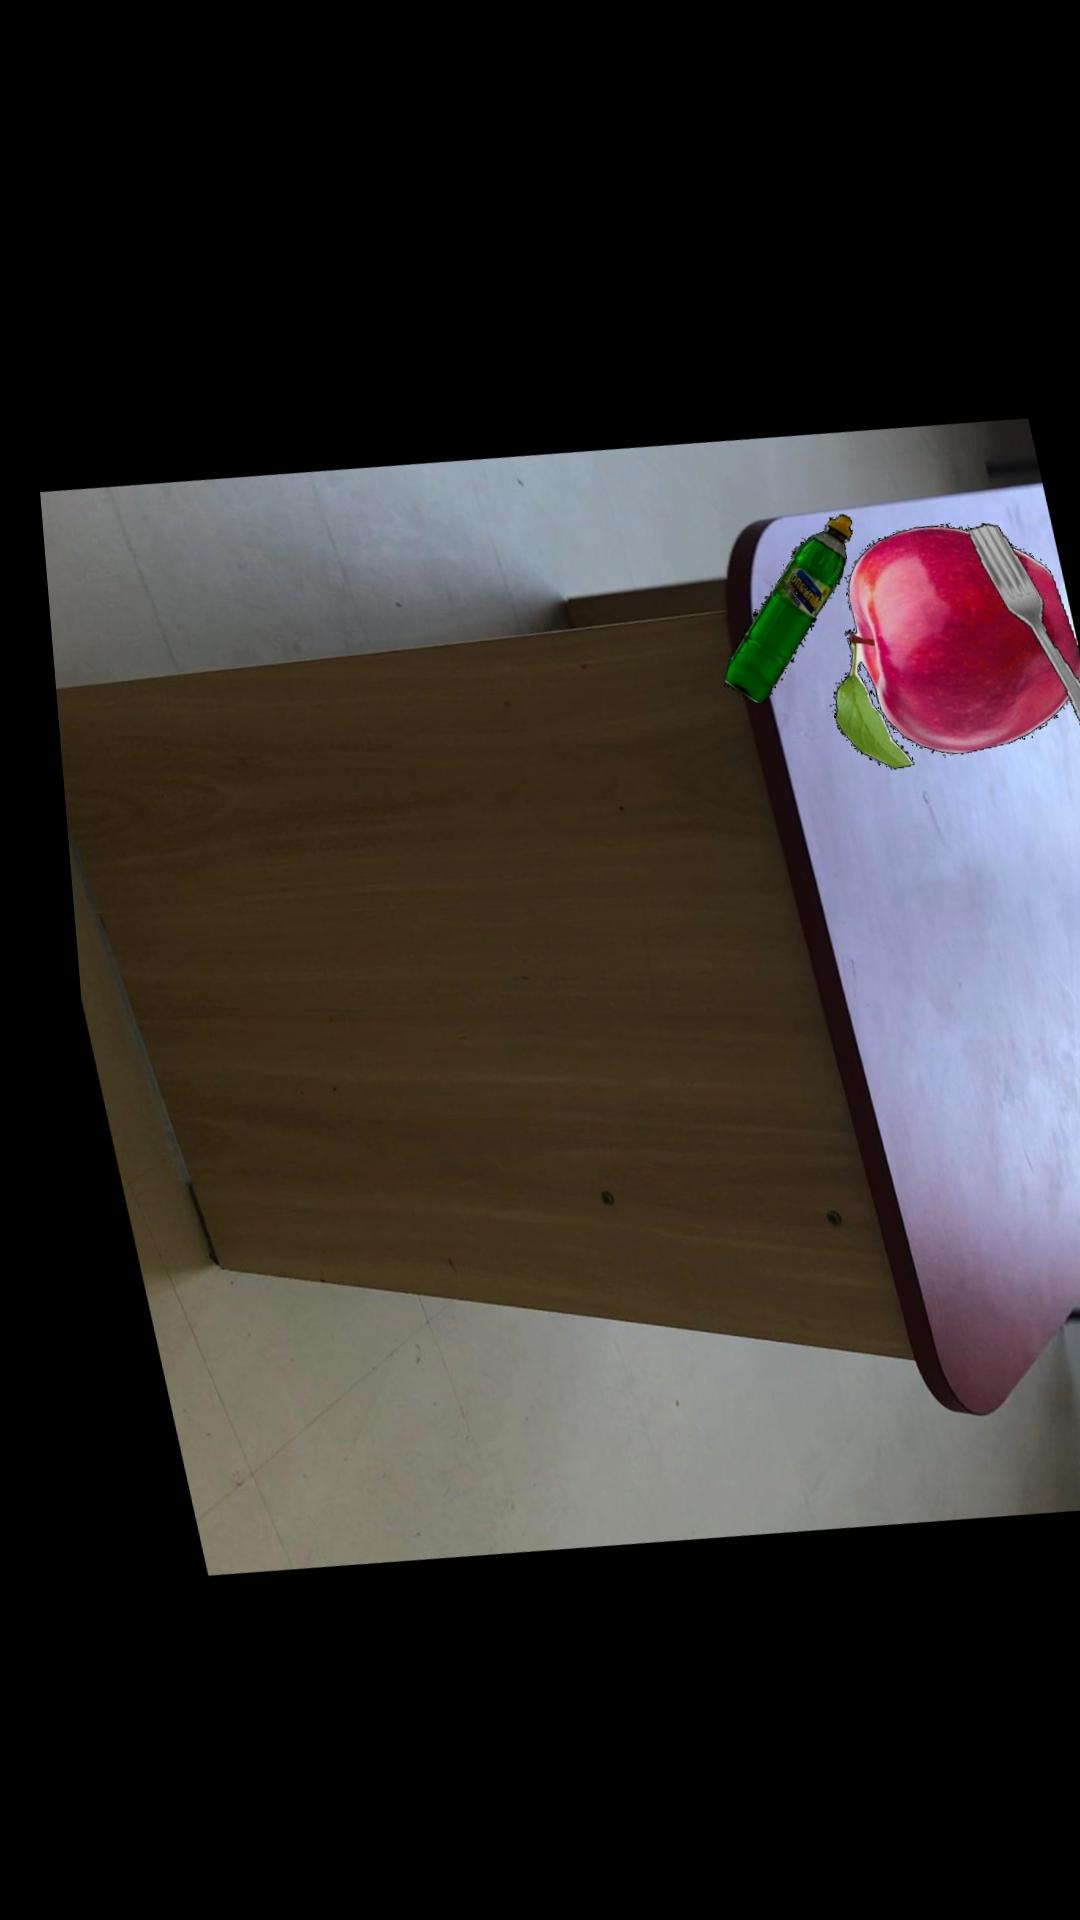apple: (824, 510, 1075, 757)
cleaner: (715, 502, 847, 694)
fork: (961, 510, 1080, 733)
